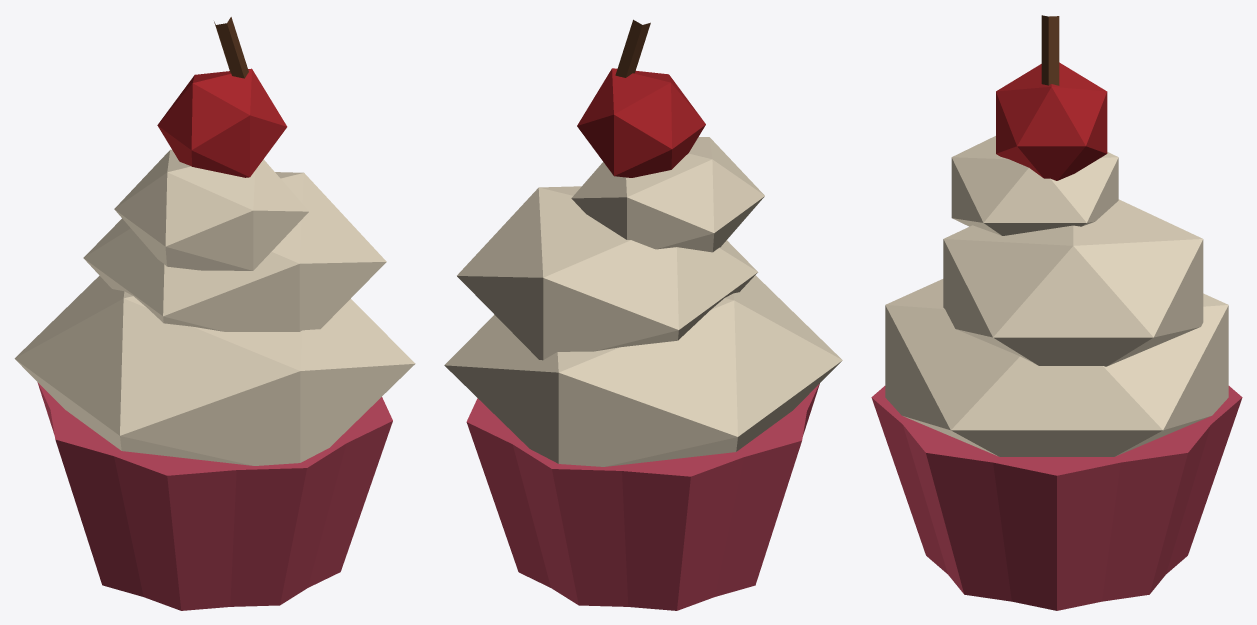
File: cupcake-827a79.glb
3 renders of one model, left to right at view 1: azimuth 30°, elevation 25°; view 2: azimuth 150°, elevation 25°; view 3: azimuth 270°, elevation 25°, orthographic.
Bounding box in the file's own units: 0.068 × 0.1102 × 0.068.
